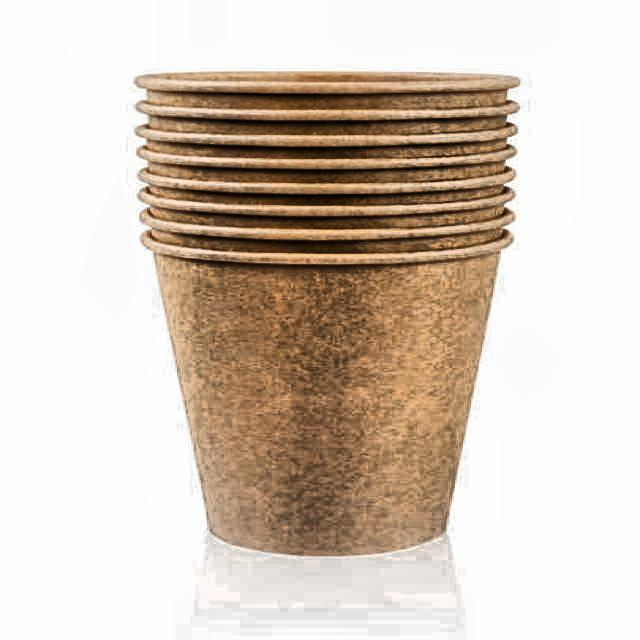cardboard: (133, 71, 521, 561)
